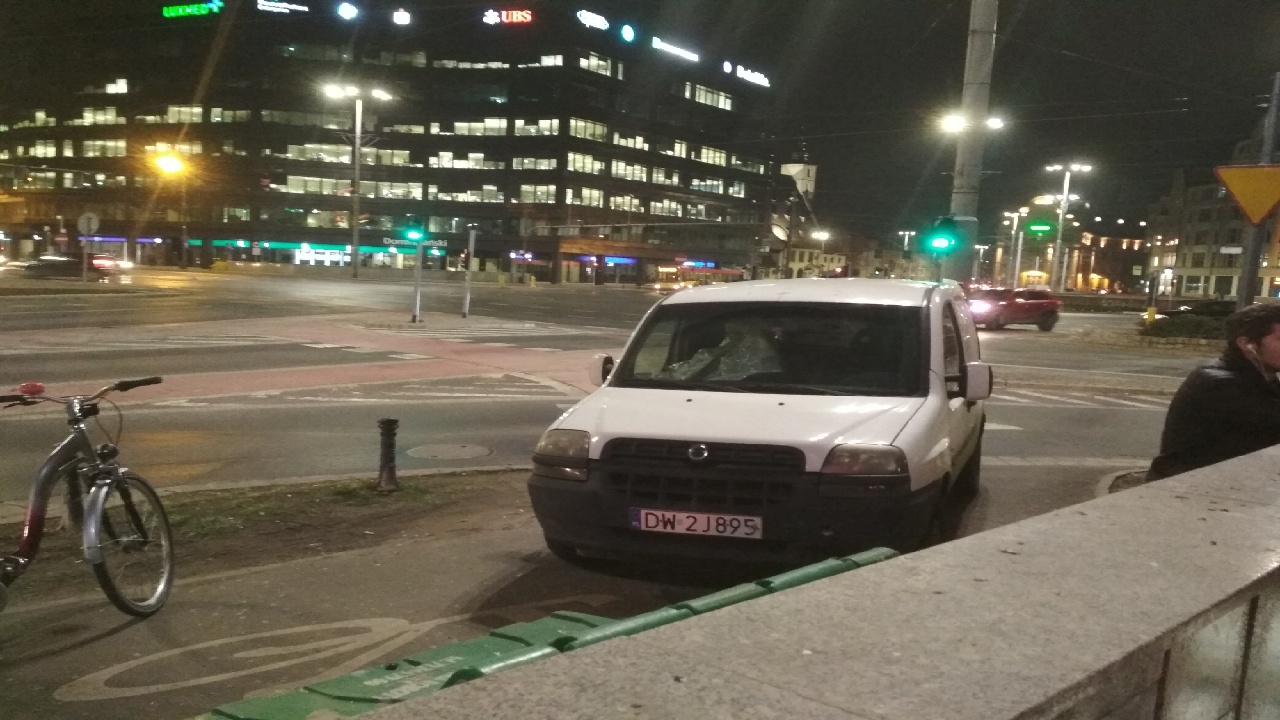A7: (1214, 162, 1280, 224)
Green: (931, 216, 950, 251), (407, 214, 422, 244)
